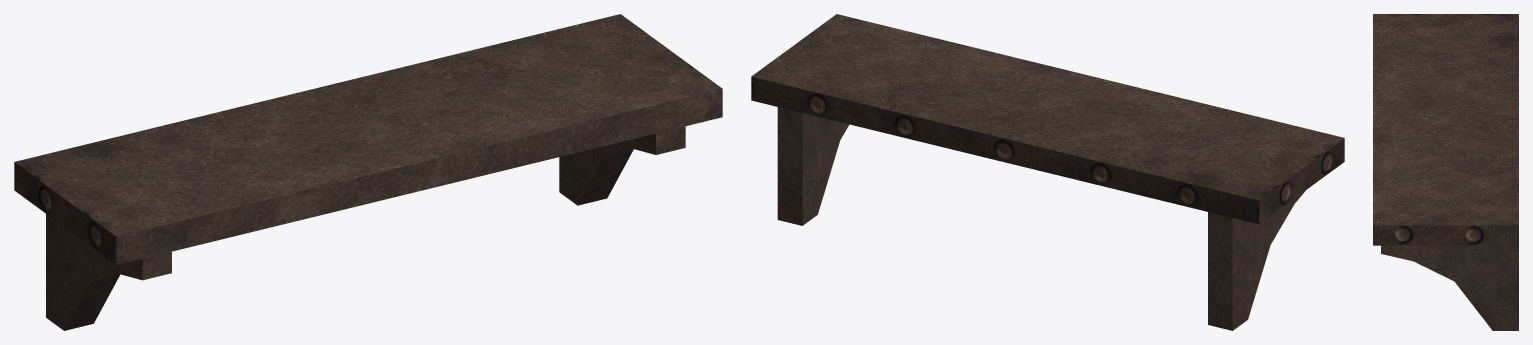
The model's file is Shelf_Hang_Metal.fbx.
The picture shows the model from 3 angles, left to right: view 1: azimuth 30°, elevation 25°; view 2: azimuth 150°, elevation 25°; view 3: azimuth 270°, elevation 25°; orthographic projection. The views are drawn at different scales.
Visible parts, largest first — view 1: Shelf_Hang_Metal; view 2: Shelf_Hang_Metal; view 3: Shelf_Hang_Metal.
Part boxes in pixels (x1=…): Shelf_Hang_Metal: x1=14, y1=14, x2=722, y2=330; Shelf_Hang_Metal: x1=751, y1=14, x2=1344, y2=330; Shelf_Hang_Metal: x1=1373, y1=14, x2=1518, y2=330.
Size of the model in its own units: 113 by 29.21 by 33.08.
